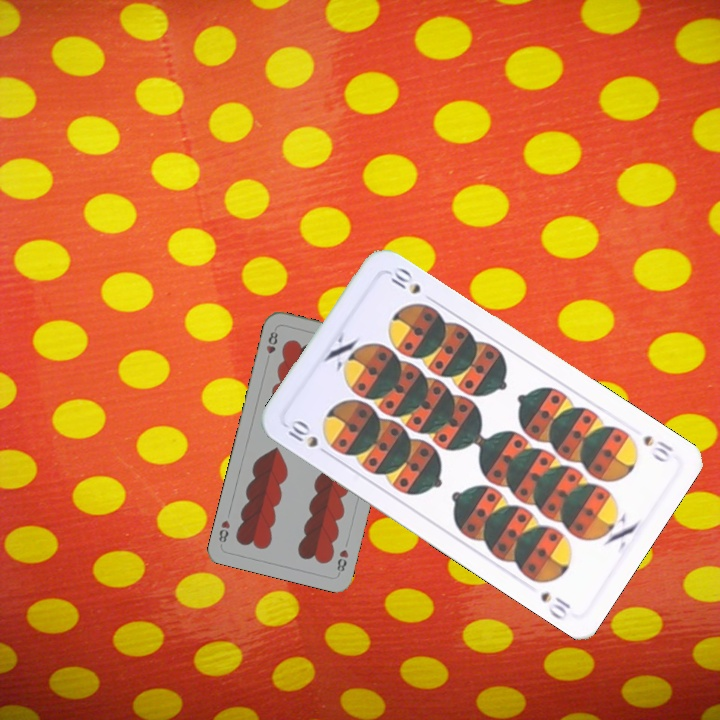H8: (333, 545, 351, 577), (262, 327, 281, 356)
S10: (282, 415, 321, 451), (639, 431, 676, 465)
